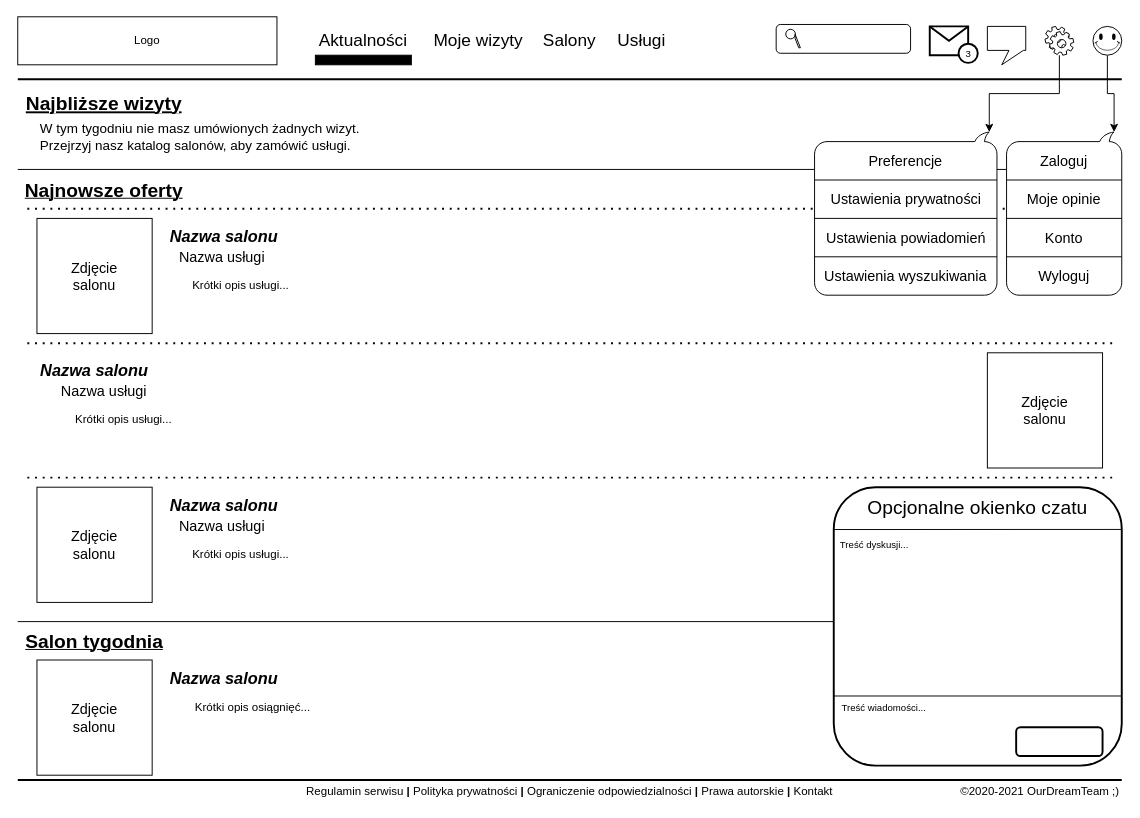
Some shapes in this 1140 by 818 pixel diagram are drawn without their labels. Each missing label, with the centre of its shape:
"Czat" goes at (x=1006, y=45).
"Wyszukaj" goes at (x=843, y=38).
"Wyślij =>" goes at (x=1059, y=741).
